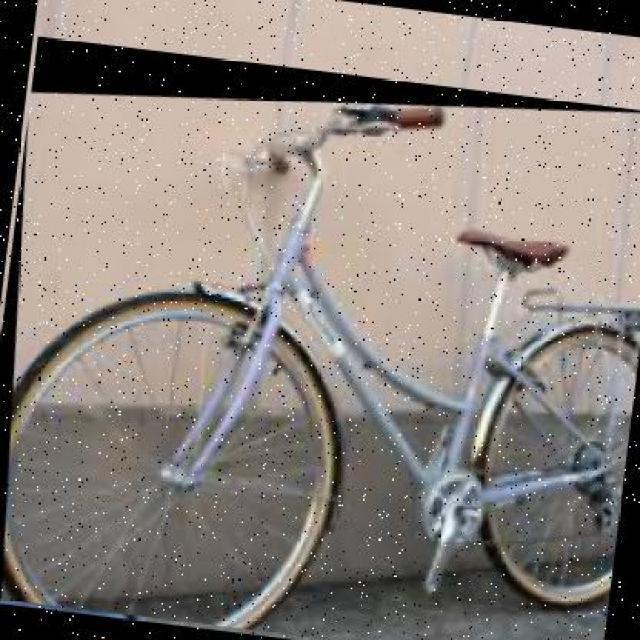bicycle: (1, 36, 639, 639)
